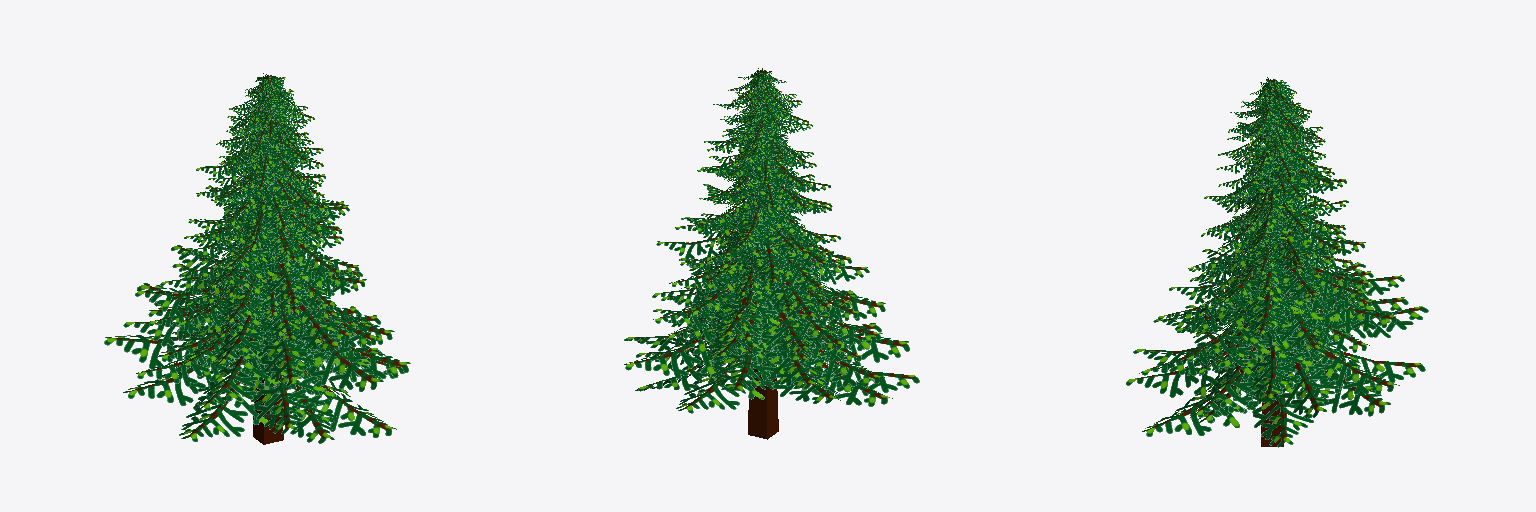
The picture shows the model from 3 angles: view 1: azimuth 30°, elevation 25°; view 2: azimuth 150°, elevation 25°; view 3: azimuth 270°, elevation 25°; orthographic projection.
Parts seen in each view (by area): view 1: pineleaves.003, pineleaves.093, pineleaves.006, pineleaves.098, pineleaves.002, pineleaves.092, pineleaves.012, pineleaves.096, pineleaves.102, pineleaves.101, pineleaves.004, pineleaves (+18 smaller); view 2: pineleaves.094, pineleaves.097, Cube_Cube.001, pineleaves.007, pineleaves.103, pineleaves.090, pineleaves.013, pineleaves.108, pineleaves, pineleaves.004, pineleaves.093, pineleaves.096 (+19 smaller); view 3: pineleaves.097, pineleaves.008, pineleaves.091, pineleaves.005, pineleaves.014, pineleaves.002, pineleaves.106, pineleaves.001, pineleaves.113, pineleaves.092, pineleaves.100, pineleaves.109 (+15 smaller).
Part boxes in pixels (x1,y1,x2,y2): pineleaves.003: (242,345,330,433); pineleaves.093: (195,327,311,410); pineleaves.006: (179,359,305,441); pineleaves.098: (240,324,383,391); pineleaves.002: (241,361,396,437); pineleaves.092: (220,345,336,443); pineleaves.012: (250,293,322,386); pineleaves.096: (123,348,281,405); pineleaves.102: (213,285,308,366); pineleaves.101: (274,258,341,352); pineleaves.004: (104,326,252,375); pineleaves: (136,331,278,386); pineleaves.094: (700,305,811,393); pineleaves.097: (624,331,773,378); Cube_Cube.001: (748,71,778,439); pineleaves.007: (676,348,783,413); pineleaves.103: (711,264,799,337); pineleaves.090: (740,320,826,388); pineleaves.013: (738,290,818,352); pineleaves.108: (733,244,818,321); pineleaves: (743,340,884,386); pineleaves.004: (719,335,840,403); pineleaves.093: (772,319,909,366); pineleaves.096: (740,345,892,406); pineleaves.097: (1246,337,1399,394); pineleaves.008: (1190,335,1310,417); pineleaves.091: (1235,310,1341,418); pineleaves.005: (1234,344,1332,447); pineleaves.014: (1241,321,1324,402); pineleaves.002: (1142,365,1293,436); pineleaves.106: (1260,292,1396,333); pineleaves.001: (1251,329,1390,416); pineleaves.113: (1235,263,1311,336); pineleaves.092: (1126,355,1259,398); pineleaves.100: (1238,283,1325,352); pineleaves.109: (1242,250,1322,299).
Bounding box in the file's own units: 16.29 × 21.12 × 17.12.
Materials: 2 (1 with a texture image).